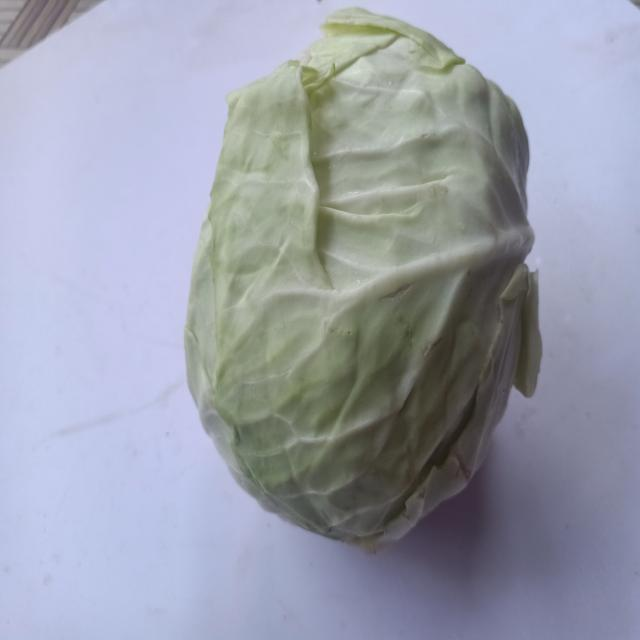Cabbage: (183, 5, 580, 548)
